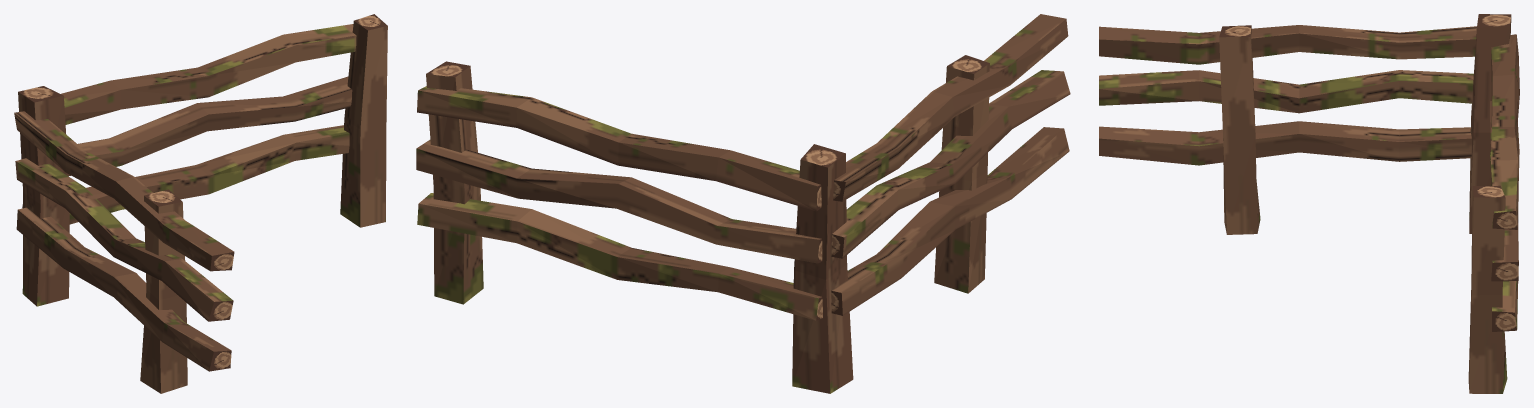
The model's file is SM_ST03_FenceCorner.fbx.
The picture shows the model from 3 angles, left to right: view 1: azimuth 30°, elevation 25°; view 2: azimuth 150°, elevation 25°; view 3: azimuth 270°, elevation 25°; orthographic projection. The views are drawn at different scales.
Parts seen in each view (by area): view 1: ST03_Fence; view 2: ST03_Fence; view 3: ST03_Fence.
Part boxes in pixels (x1,y1,x2,y2): ST03_Fence: (14, 14, 387, 393); ST03_Fence: (416, 14, 1070, 393); ST03_Fence: (1099, 14, 1519, 393).
Size of the model in its own units: 2.3 by 1.21 by 2.23.
